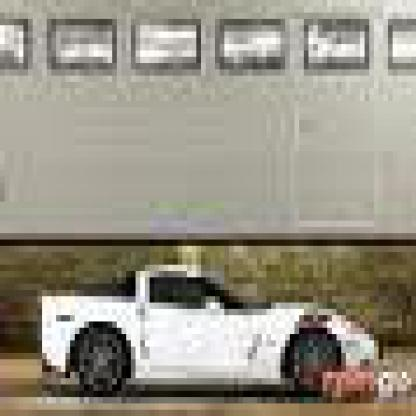Vehicle: (33, 258, 388, 404)
